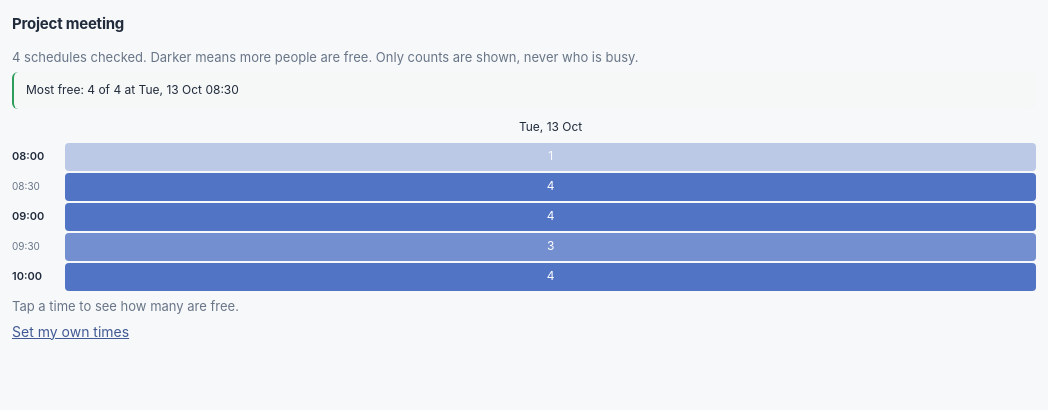
Scenario: Heatmap › shows members the count for the whole meeting, with nothing to choose
What coordinates should you click on to do the following:
click the button named "08:30: 4 of 4 free"
I would click on:
 (551, 187)
Its box is [65,173,1036,201].
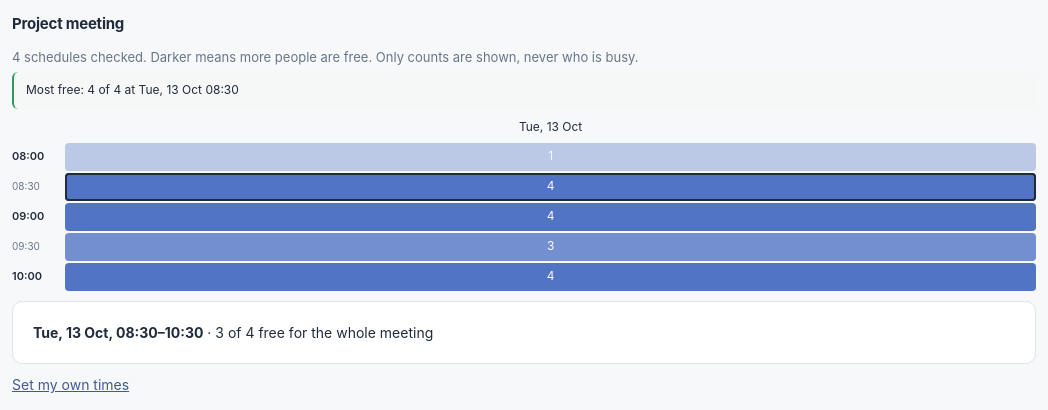
Check: the text "Tue, 13 Oct, 08:30–10:30 · 3 of 4 free for the whole meeting" is shown, box [33,322,433,343]
What coordinates should you click on to do the following:
click the button named "09:30: 3 of 4 free"
I would click on:
 (551, 247)
Its box is [65,233,1036,261].
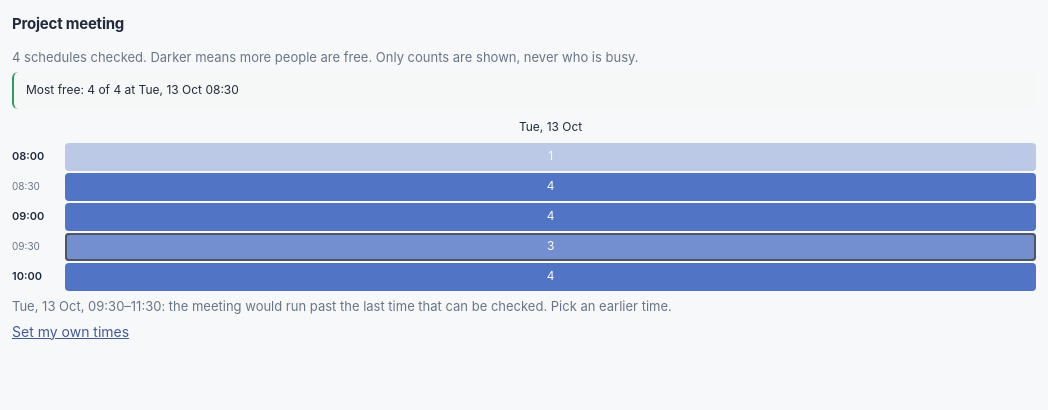
Check: the text "would run past the last time" is shown, box [161,298,672,314]
